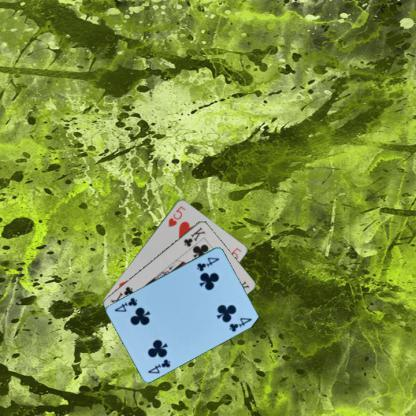4c: (194, 254, 221, 272), (145, 356, 172, 374)
5h: (165, 203, 187, 228)
Kc: (181, 224, 207, 248)
